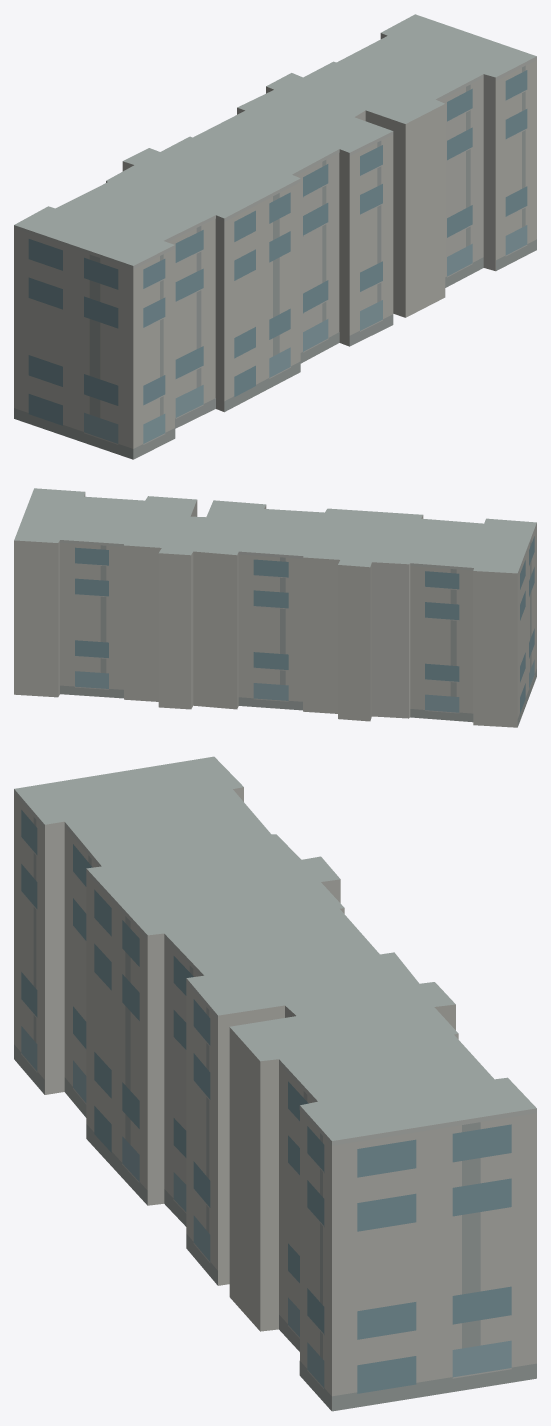
File: survey-upis-33015421.glb
3 views of the same model, one above another, from view 1: azimuth 30°, elevation 25°; view 2: azimuth 150°, elevation 25°; view 3: azimuth 270°, elevation 25° (orthographic). The views are drawn at different scales.
Visible parts, largest first — view 1: survey-upis-33015421.tmp; view 2: survey-upis-33015421.tmp; view 3: survey-upis-33015421.tmp.
Boxes of the visible parts, x1,y1,x2,y2 form: survey-upis-33015421.tmp: [14, 14, 536, 459]; survey-upis-33015421.tmp: [14, 488, 536, 727]; survey-upis-33015421.tmp: [14, 756, 536, 1411].
Size of the model in its own units: 41.82 by 13.7 by 24.03.
